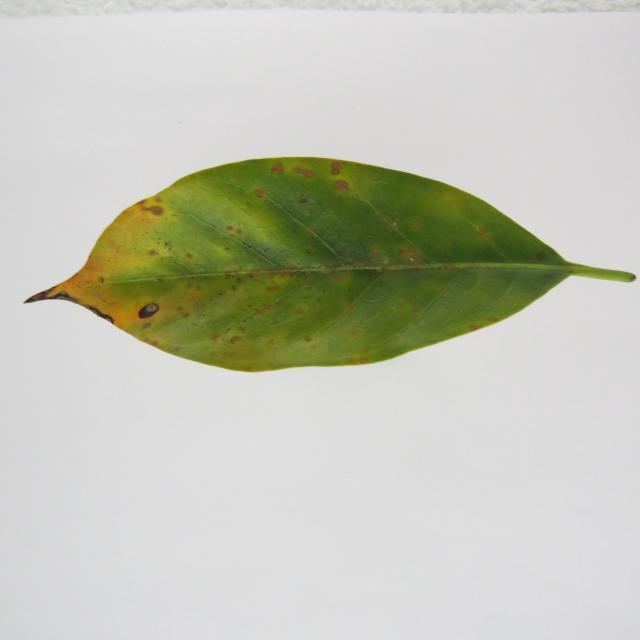DeficienciaNutricional-Potasio: (25, 158, 635, 371)
